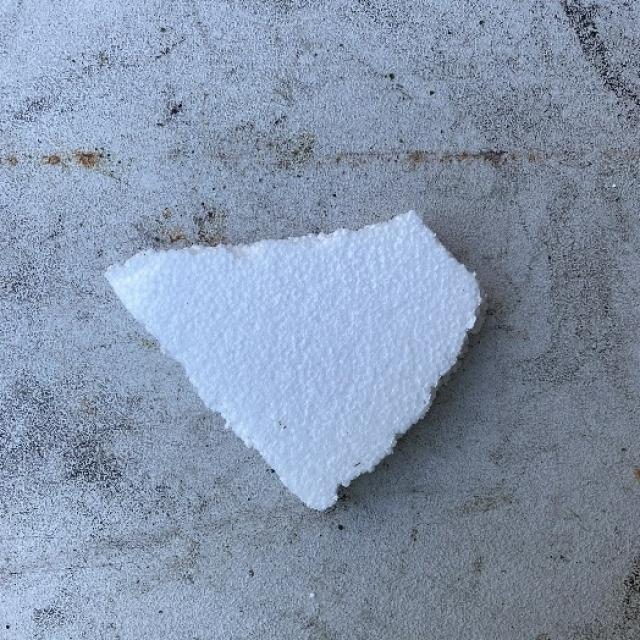styrofoam: (102, 208, 484, 512)
